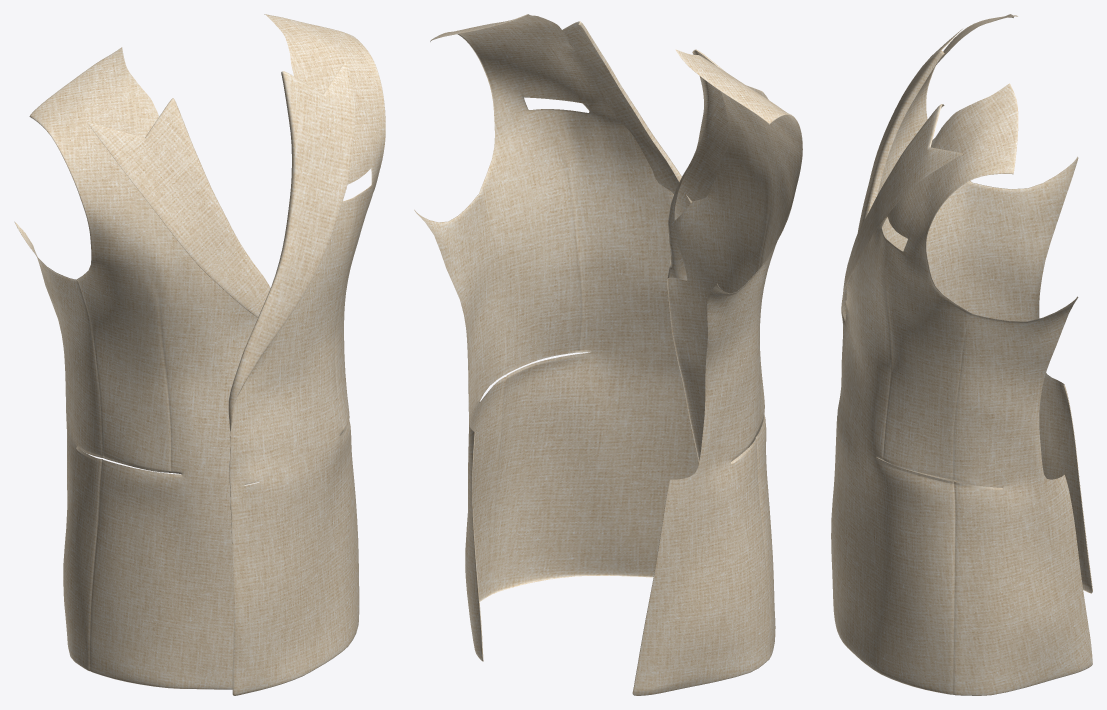
Rendered from peak_double_breasted.glb.
3 views of the same model, side by side, from view 1: azimuth 30°, elevation 25°; view 2: azimuth 150°, elevation 25°; view 3: azimuth 270°, elevation 25° (orthographic). The views are drawn at different scales.
Visible parts, largest first — view 1: peak_double_breasted; view 2: peak_double_breasted; view 3: peak_double_breasted.
Part boxes in pixels (box(x1,y1,x2,y2)): peak_double_breasted: box(14, 14, 385, 695); peak_double_breasted: box(414, 14, 802, 695); peak_double_breasted: box(831, 14, 1092, 695).
Bounding box in the file's own units: 0.0585 × 0.1017 × 0.0414.
Materials: 2 (1 with a texture image).
